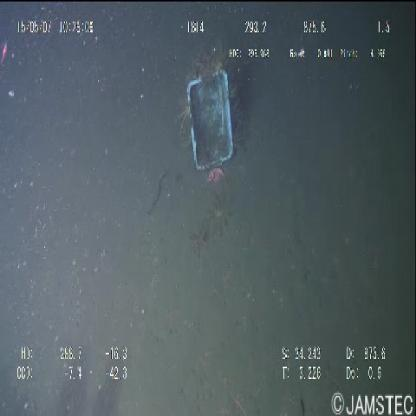Rác: (176, 60, 240, 188)
